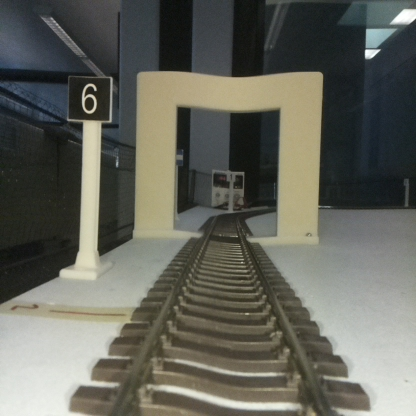black-info-6: (69, 77, 110, 275)
start: (175, 149, 183, 218)
white-info-1: (227, 171, 235, 210)
